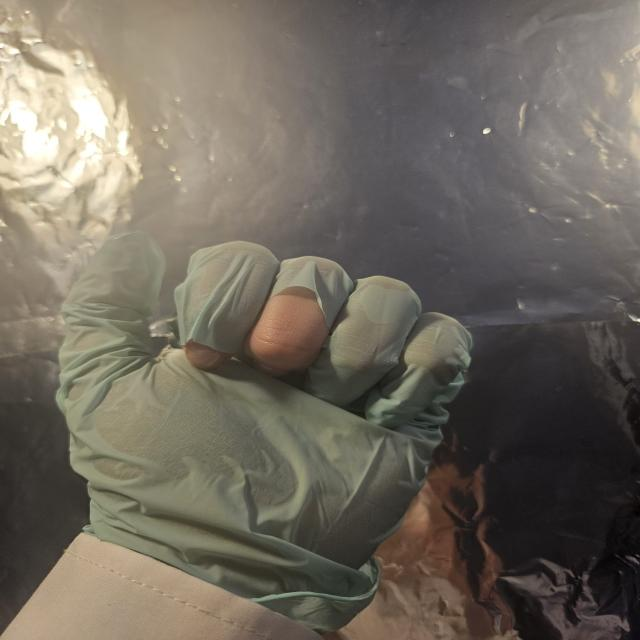gloves_damaged: (54, 229, 477, 640)
